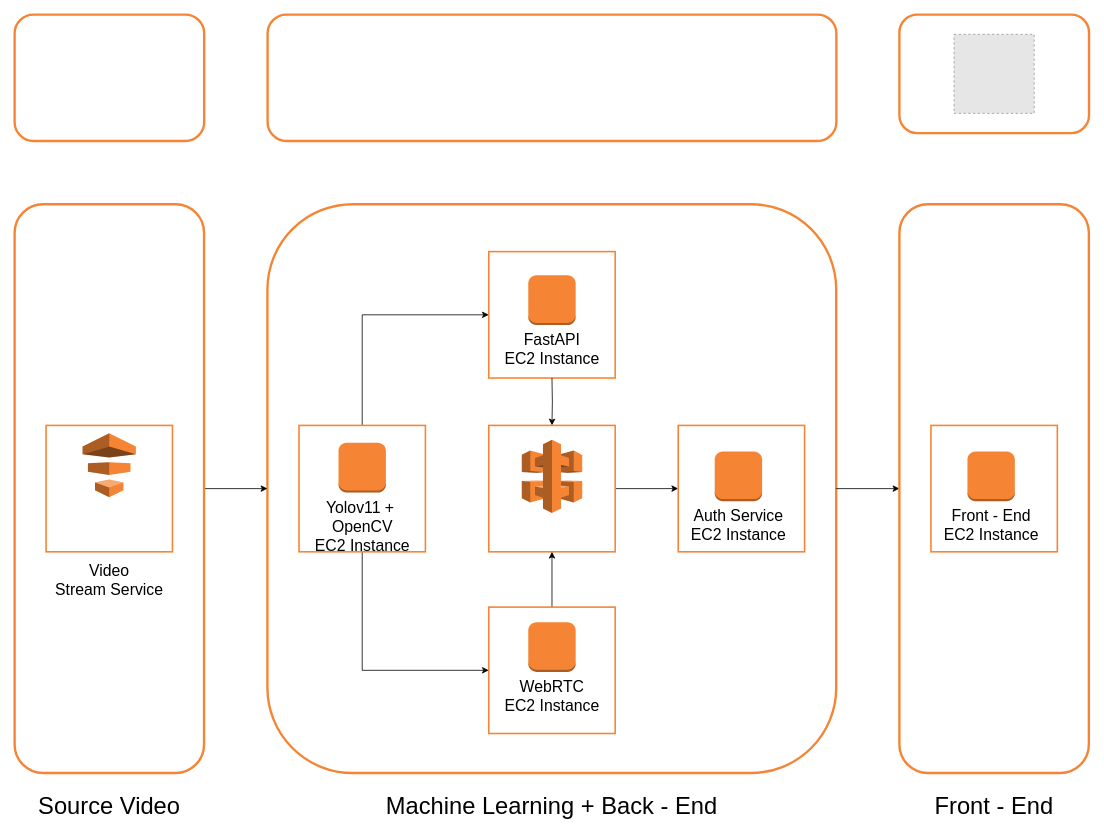
Some shapes in this 1104 by 833 pixel diagram are drawn without their labels. Grey dashed boxes stand in for pictures. Each missing label, with the centre of its shape:
API GateWay: pixel 551 476
Video Stream Pipeline: pixel 109 465
